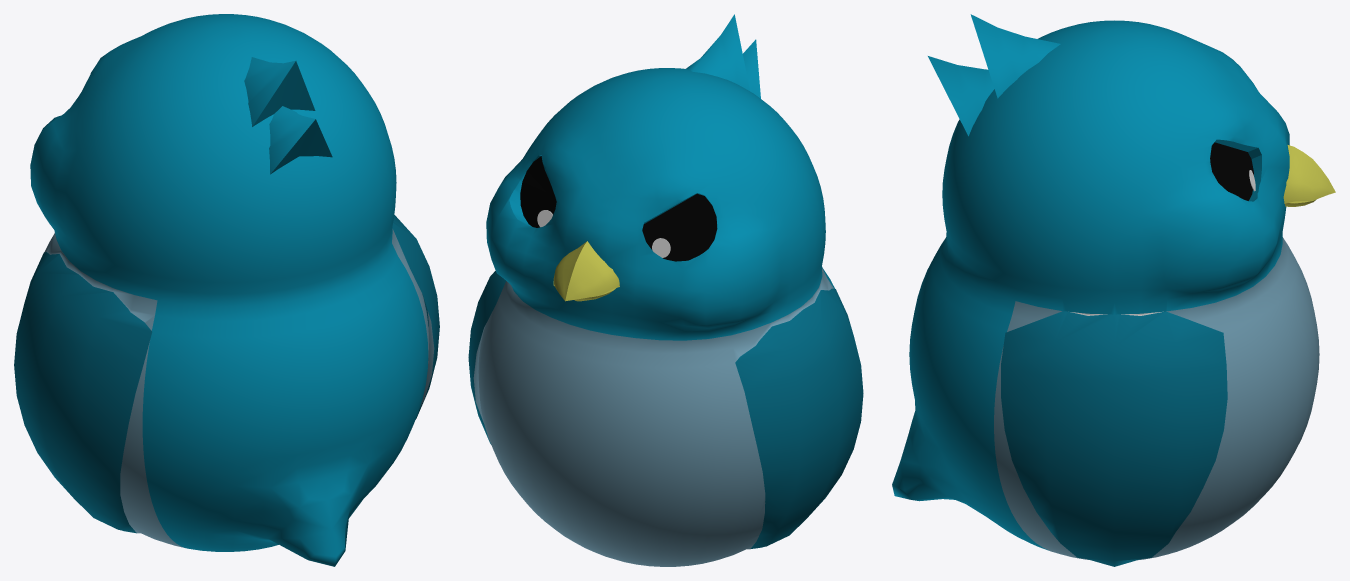
Rendered from Solomon.fbx.
3 renders of one model, left to right at view 1: azimuth 30°, elevation 25°; view 2: azimuth 150°, elevation 25°; view 3: azimuth 270°, elevation 25°, orthographic. The views are drawn at different scales.
Parts seen in each view (by area): view 1: pSphere7, pasted__pSphere3, pasted__pSphere4; view 2: pSphere7, pCone1, pasted__pSphere3, pasted__pSphere4, pCylinder2; view 3: pSphere7, pasted__pSphere3, pasted__pSphere4, pCone1.
Boxes of the visible parts, x1,y1,x2,y2 form: pSphere7: (14,14,439,566); pasted__pSphere3: (244,57,315,126); pasted__pSphere4: (269,106,332,174); pSphere7: (468,68,863,566); pCone1: (553,241,619,301); pasted__pSphere3: (686,14,750,91); pasted__pSphere4: (743,39,760,98); pCylinder2: (537,210,670,257); pSphere7: (892,20,1319,566); pasted__pSphere3: (970,14,1060,98); pasted__pSphere4: (928,56,994,136); pCone1: (1283,145,1335,203).
Bounding box in the file's own units: 2.5 × 3.34 × 2.54.
